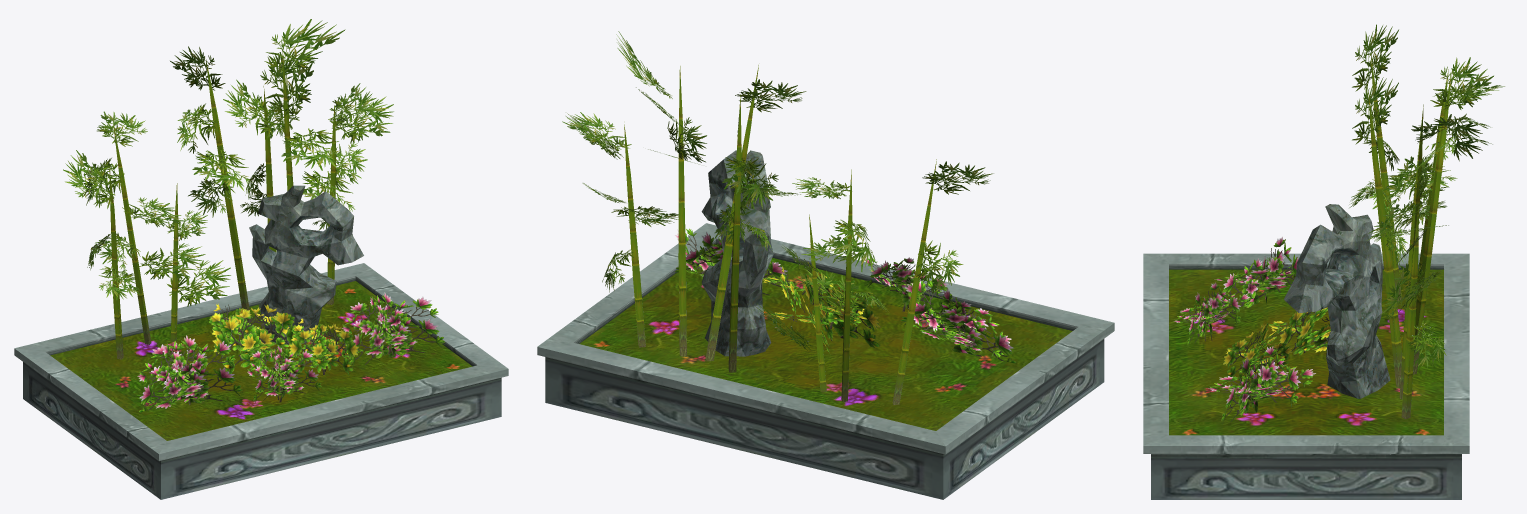
Rendered from szc_object_huatanc.FBX.
3 views of the same model, side by side, from view 1: azimuth 30°, elevation 25°; view 2: azimuth 150°, elevation 25°; view 3: azimuth 270°, elevation 25° (orthographic). The views are drawn at different scales.
Parts seen in each view (by area): view 1: szc_object_huatanc, szc_object_14a_zhuzi5_ye, szc_object_huatanc_, szc_object_huatanc_jiashan, szc_object_14a_zhuzi5_gan; view 2: szc_object_huatanc, szc_object_14a_zhuzi5_ye, szc_object_14a_zhuzi5_gan, szc_object_huatanc_, szc_object_huatanc_jiashan; view 3: szc_object_huatanc, szc_object_huatanc_jiashan, szc_object_14a_zhuzi5_ye, szc_object_huatanc_, szc_object_14a_zhuzi5_gan.
Boxes of the visible parts, left/top/right/bottom form: szc_object_huatanc: left=14, top=263, right=508, bottom=499; szc_object_14a_zhuzi5_ye: left=63, top=19, right=393, bottom=306; szc_object_huatanc_: left=137, top=292, right=445, bottom=412; szc_object_huatanc_jiashan: left=249, top=185, right=363, bottom=344; szc_object_14a_zhuzi5_gan: left=109, top=51, right=335, bottom=359; szc_object_huatanc: left=537, top=223, right=1114, bottom=499; szc_object_14a_zhuzi5_ye: left=562, top=31, right=993, bottom=350; szc_object_14a_zhuzi5_gan: left=624, top=65, right=936, bottom=404; szc_object_huatanc_: left=675, top=228, right=1016, bottom=363; szc_object_huatanc_jiashan: left=701, top=150, right=773, bottom=356; szc_object_huatanc: left=1143, top=253, right=1469, bottom=499; szc_object_huatanc_jiashan: left=1284, top=204, right=1390, bottom=398; szc_object_14a_zhuzi5_ye: left=1349, top=24, right=1504, bottom=370; szc_object_huatanc_: left=1174, top=237, right=1330, bottom=424; szc_object_14a_zhuzi5_gan: left=1368, top=54, right=1451, bottom=419.
Size of the model in its own units: 249 by 216 by 198.
